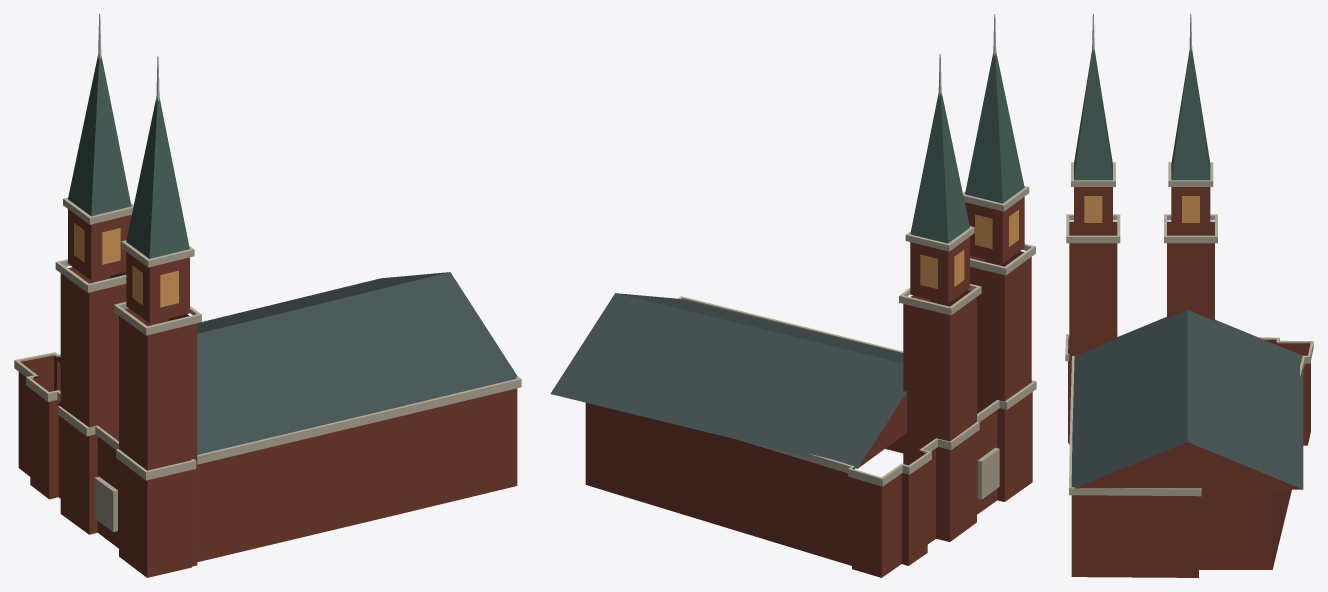
File: basilica-of-the-sacred-heart.glb
3 renders of one model, left to right at view 1: azimuth 30°, elevation 25°; view 2: azimuth 150°, elevation 25°; view 3: azimuth 270°, elevation 25°, orthographic. The views are drawn at different scales.
Parts seen in each view (by area): view 1: lod0_bld_wall, lod1_lm_stone, lod0_lm_metal, lod0_lm_stone, lod0_lm_glow; view 2: lod0_bld_wall, lod1_lm_stone, lod0_lm_metal, lod0_lm_stone, lod0_lm_glow; view 3: lod0_bld_wall, lod1_lm_stone, lod0_lm_metal, lod0_lm_stone, lod0_lm_glow.
Part boxes in pixels (box(x1,y1,x2,y2)): lod0_bld_wall: box(18, 209, 517, 577); lod1_lm_stone: box(14, 14, 521, 480); lod0_lm_metal: box(82, 14, 483, 394); lod0_lm_stone: box(14, 197, 441, 531); lod0_lm_glow: box(74, 223, 178, 307); lod0_bld_wall: box(585, 197, 1032, 577); lod1_lm_stone: box(550, 15, 1036, 478); lod0_lm_metal: box(587, 14, 1010, 411); lod0_lm_stone: box(681, 186, 1035, 499); lod0_lm_glow: box(920, 210, 1018, 288); lod0_bld_wall: box(1068, 187, 1310, 577); lod1_lm_stone: box(1065, 14, 1313, 496); lod0_lm_metal: box(1074, 16, 1237, 464); lod0_lm_stone: box(1066, 162, 1313, 362); lod0_lm_glow: box(1084, 196, 1199, 222).
Size of the model in its own units: 48.91 by 62 by 33.14.
